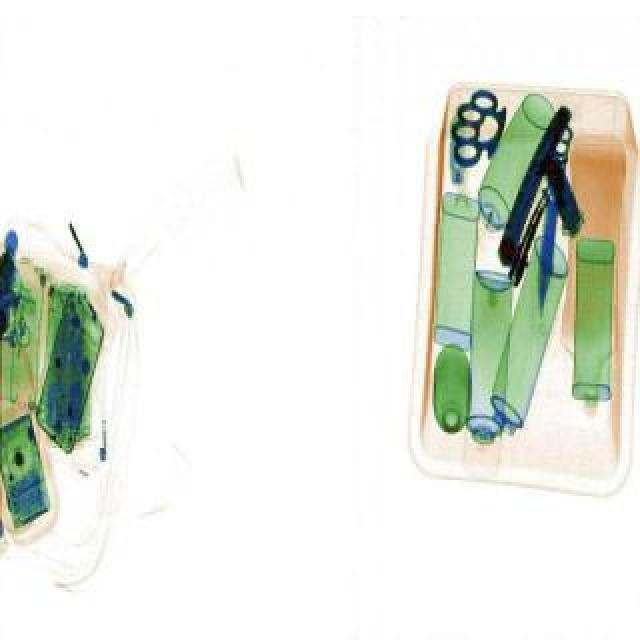knife: (528, 122, 574, 314)
